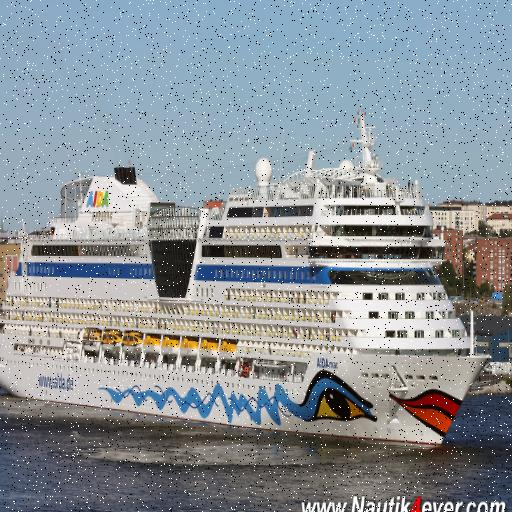cruises: (1, 108, 493, 453)
